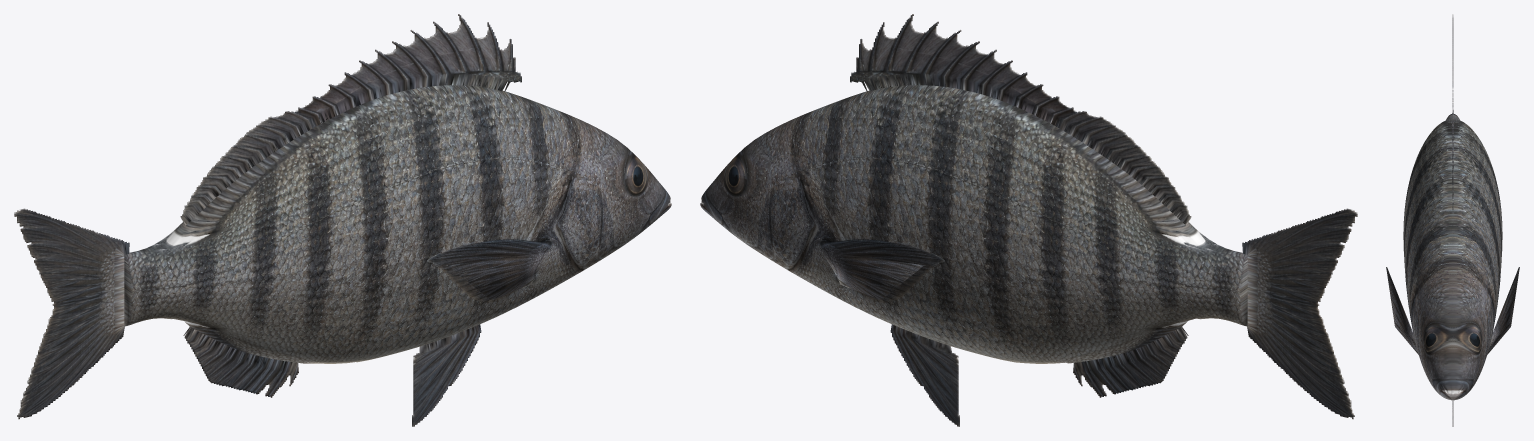
File: galjoen.glb
3 renders of one model, left to right at view 1: azimuth 30°, elevation 25°; view 2: azimuth 150°, elevation 25°; view 3: azimuth 270°, elevation 25°, orthographic. The views are drawn at different scales.
Parts seen in each view (by area): view 1: galjoen_realistic; view 2: galjoen_realistic; view 3: galjoen_realistic.
Boxes of the visible parts, left/top/right/bottom form: galjoen_realistic: left=14, top=14, right=671, bottom=426; galjoen_realistic: left=700, top=14, right=1357, bottom=426; galjoen_realistic: left=1386, top=14, right=1519, bottom=426.
Bounding box in the file's own units: 1 × 0.5851 × 0.2169.
Materials: 3 (3 with a texture image).
